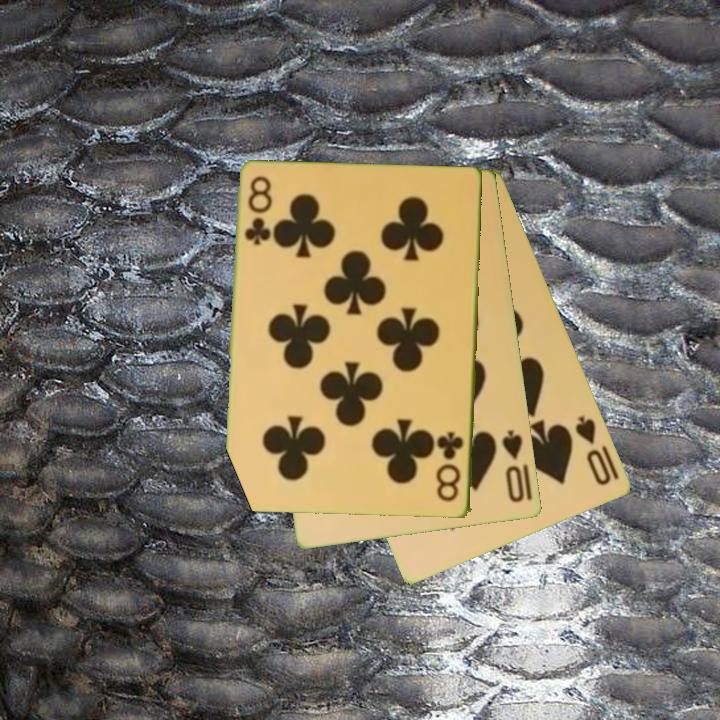10s: (572, 412, 615, 489), (499, 426, 528, 506)
8c: (434, 428, 467, 505), (241, 173, 273, 248)
